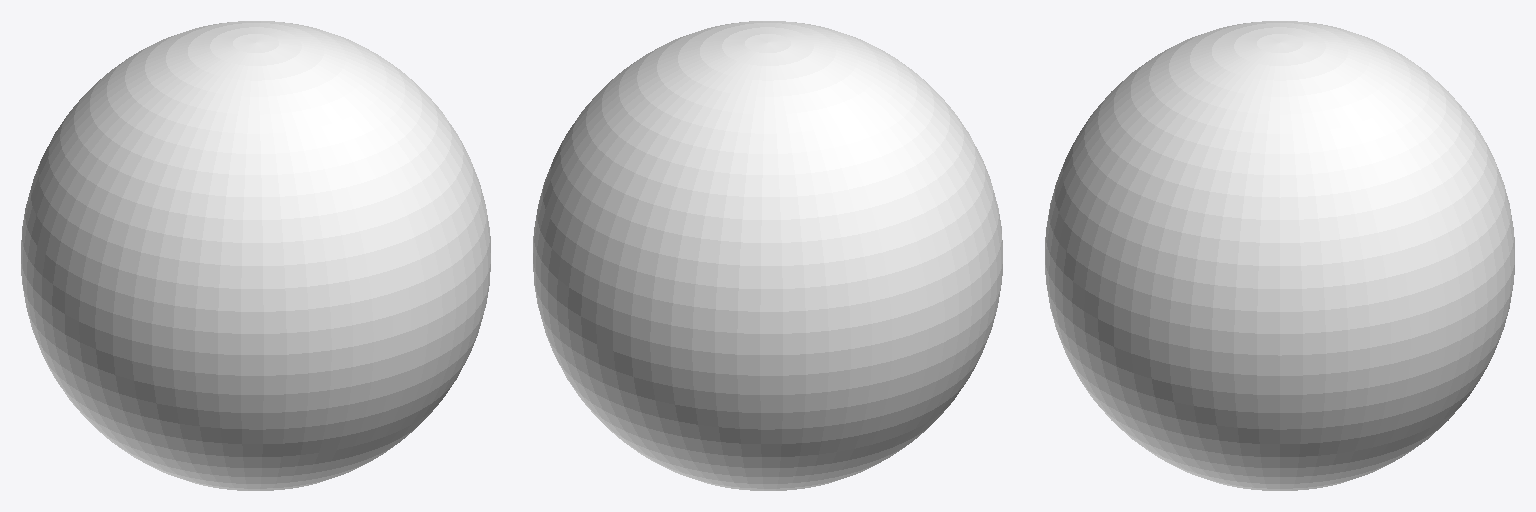
Rendered from planete_1.obj.
3 views of the same model, side by side, from view 1: azimuth 30°, elevation 25°; view 2: azimuth 150°, elevation 25°; view 3: azimuth 270°, elevation 25° (orthographic).
Parts seen in each view (by area): view 1: Planet_Mesh.002; view 2: Planet_Mesh.002; view 3: Planet_Mesh.002.
Part boxes in pixels (x1,y1,x2,y2): Planet_Mesh.002: (21,21,490,490); Planet_Mesh.002: (533,21,1002,490); Planet_Mesh.002: (1045,21,1514,490).
Bounding box in the file's own units: 24.88 × 24.88 × 24.88.